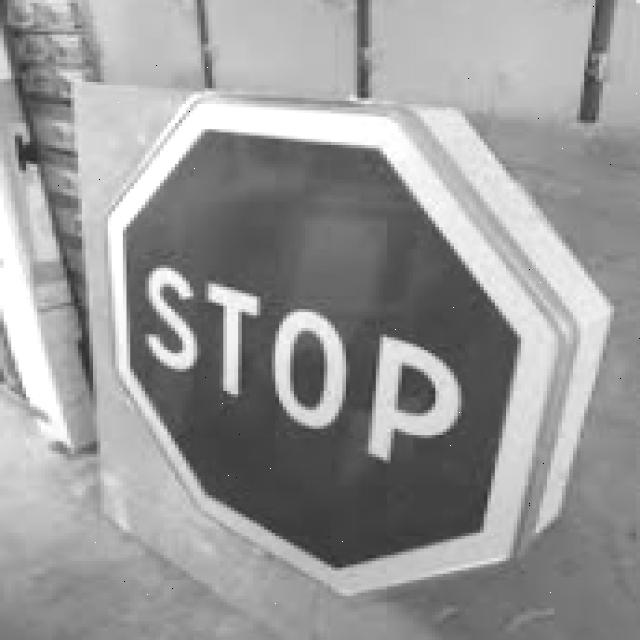Stop-signs: (108, 96, 565, 592)
